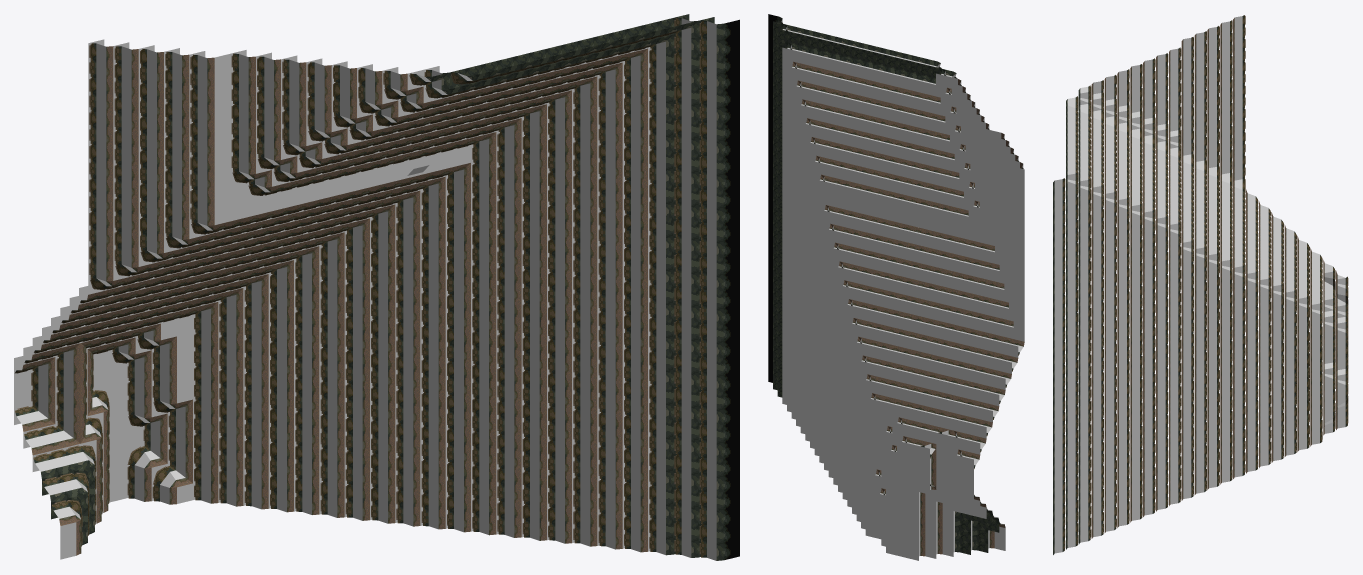
File: Victory-Road-1_02_01.obj
3 renders of one model, left to right at view 1: azimuth 30°, elevation 25°; view 2: azimuth 150°, elevation 25°; view 3: azimuth 270°, elevation 25°, orthographic. The views are drawn at different scales.
Visible parts, largest first — view 1: map; view 2: map; view 3: map.
Part boxes in pixels (<box>): map: <box>14,14,739,560</box>; map: <box>768,14,1024,560</box>; map: <box>1053,15,1348,554</box>.
Bounding box in the file's own units: 32 × 32 × 23.
